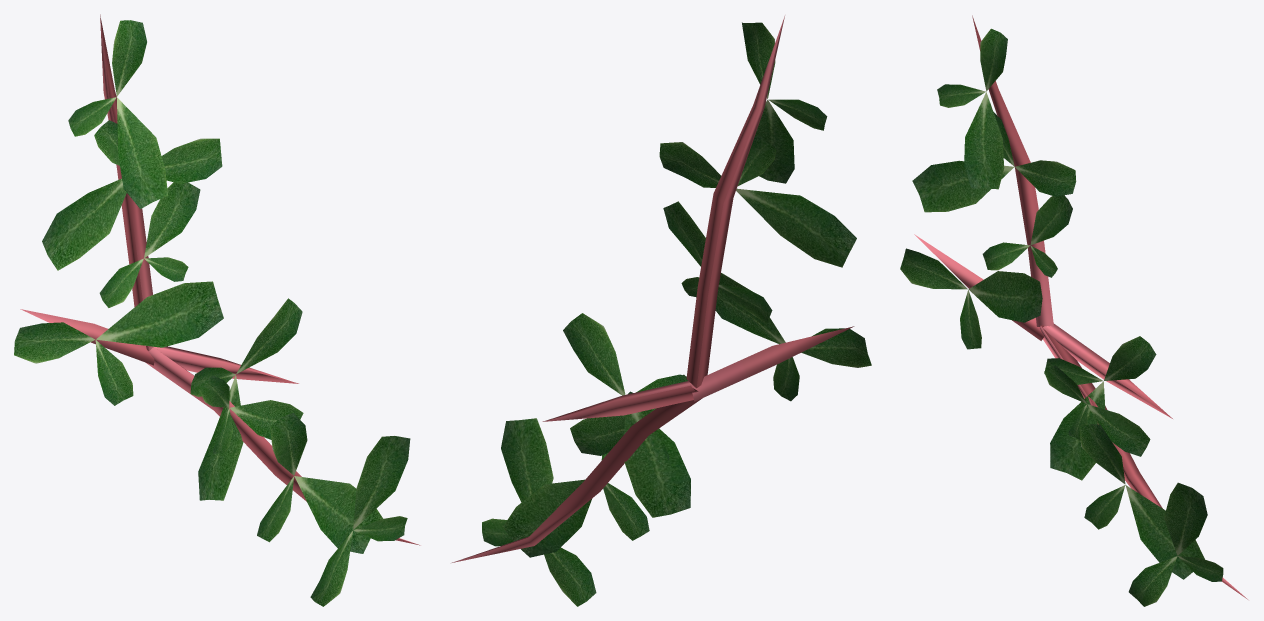
The model's file is portulaca_07.obj.
3 views of the same model, side by side, from view 1: azimuth 30°, elevation 25°; view 2: azimuth 150°, elevation 25°; view 3: azimuth 330°, elevation 25° (orthographic). The views are drawn at different scales.
Parts seen in each view (by area): view 1: portulaca.006; view 2: portulaca.006; view 3: portulaca.006.
Part boxes in pixels (x1=…): portulaca.006: x1=14, y1=14, x2=420, y2=606; portulaca.006: x1=452, y1=16, x2=871, y2=606; portulaca.006: x1=900, y1=15, x2=1247, y2=606.
Bounding box in the file's own units: 0.1635 × 0.2432 × 0.0317.
Materials: 1 (1 with a texture image).
